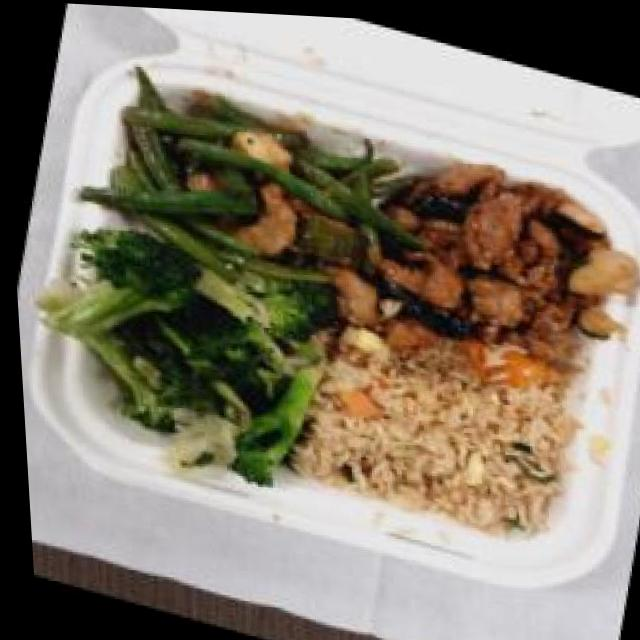Fried Rice: (274, 301, 584, 548)
Kung Pao Chicken: (348, 132, 640, 399)
String Bean Chicken Breast: (76, 58, 417, 309)
Super Greens: (23, 206, 348, 491)
